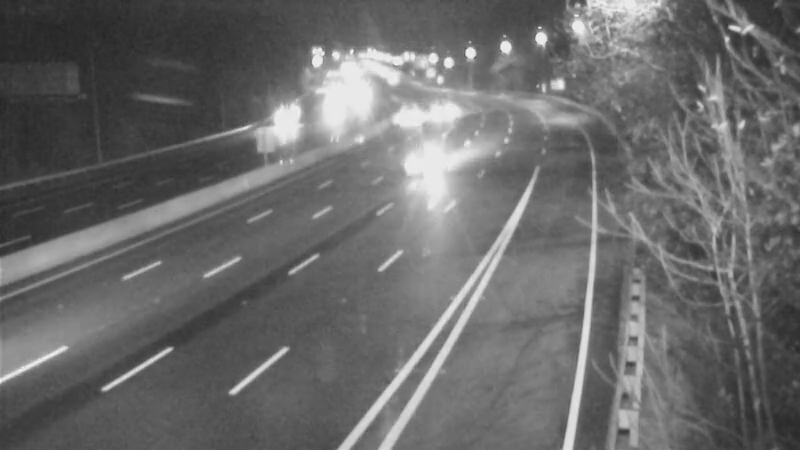vehicle: (383, 128, 463, 208), (414, 86, 464, 136), (380, 92, 430, 142), (262, 96, 312, 146), (304, 85, 354, 135)
